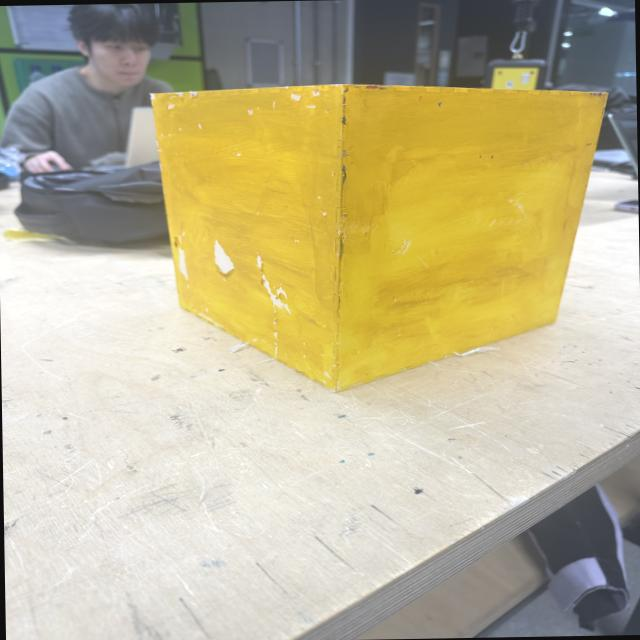yellow_bin: (148, 75, 613, 398)
